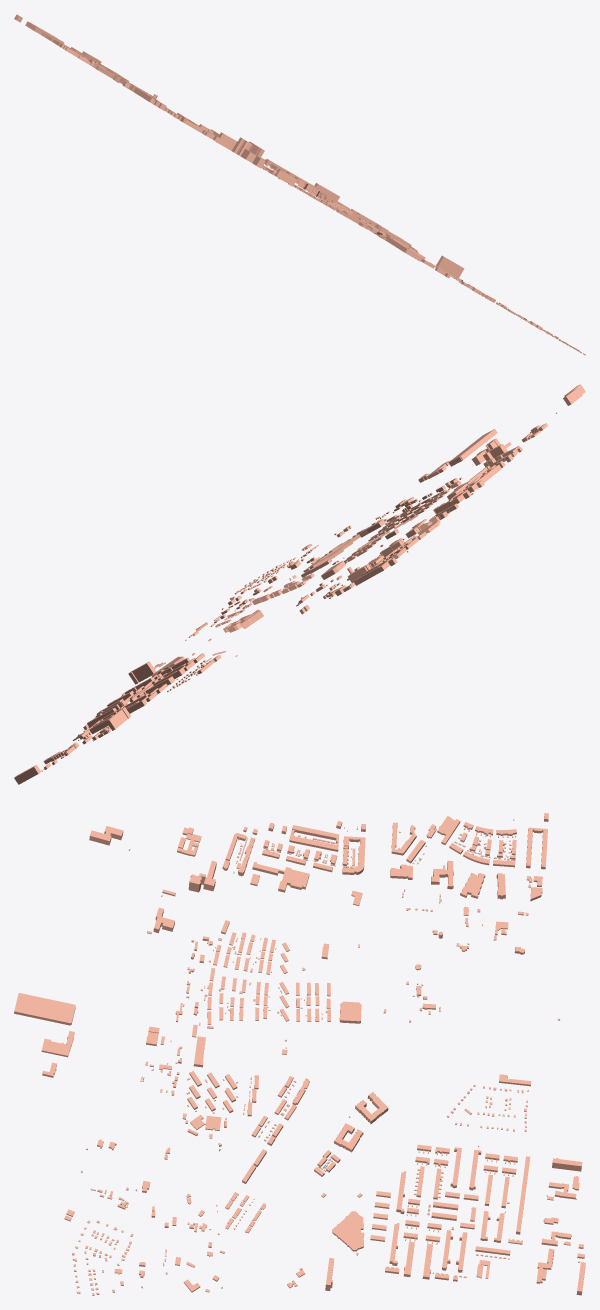
3 views of the same model, one above another, from view 1: azimuth 30°, elevation 25°; view 2: azimuth 150°, elevation 25°; view 3: azimuth 270°, elevation 25° (orthographic). The views are drawn at different scales.
Size of the model in its own units: 1046 by 794 by 1332.
